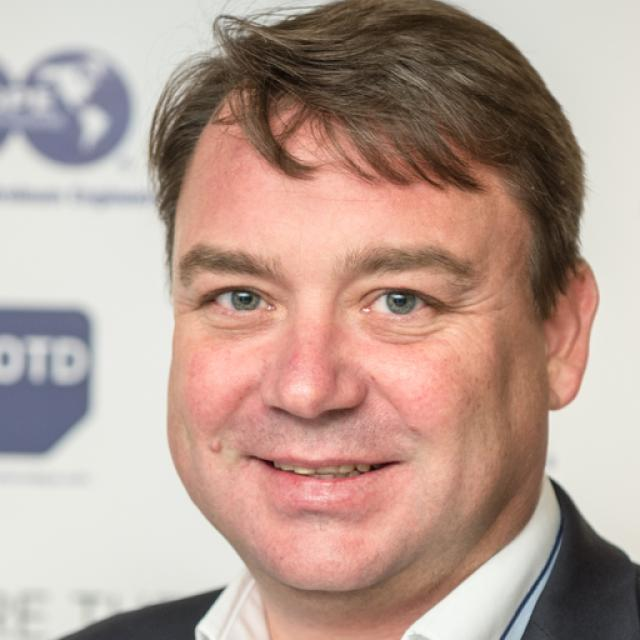Acne: (196, 432, 229, 456)
Wrinkle: (368, 373, 421, 433), (212, 383, 253, 427)
